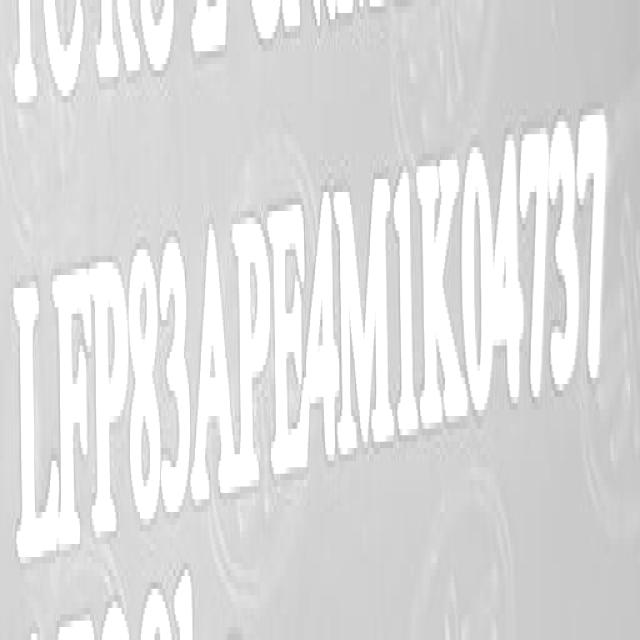0: (462, 142, 493, 426)
1: (396, 163, 420, 448)
3: (163, 242, 193, 520), (552, 115, 579, 404)
4: (494, 132, 524, 415)
7: (582, 104, 610, 399), (523, 122, 549, 409)
8: (131, 242, 163, 526)
A: (196, 220, 235, 511), (306, 192, 338, 472)
E: (273, 206, 306, 487)
F: (55, 265, 91, 549)
K: (418, 152, 469, 446)
L: (16, 275, 54, 564)
M: (338, 170, 392, 454)
P: (234, 209, 270, 499), (94, 257, 130, 544)
